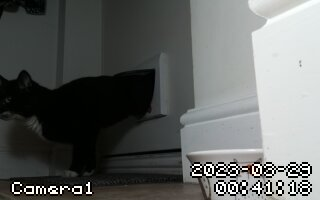bad: (5, 62, 151, 190)
